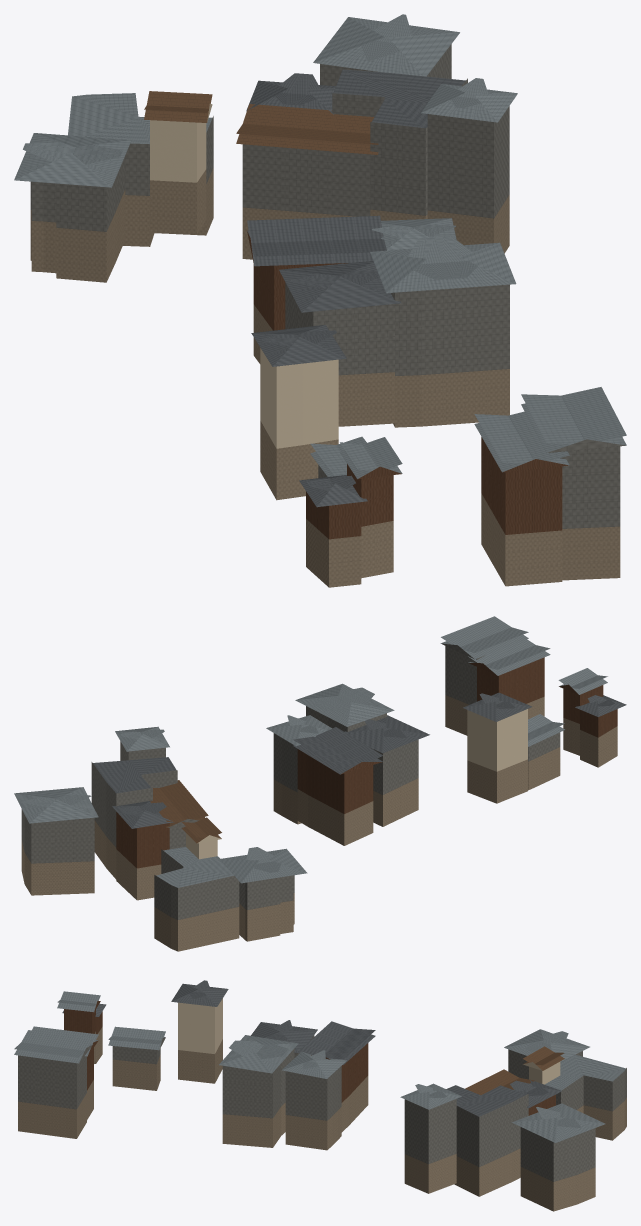
Rendered from bld_c28_-54_551.gltf.
3 views of the same model, one above another, from view 1: azimuth 30°, elevation 25°; view 2: azimuth 150°, elevation 25°; view 3: azimuth 270°, elevation 25° (orthographic). The views are drawn at different scales.
Parts seen in each view (by area): view 1: bld_c28_-54_551; view 2: bld_c28_-54_551; view 3: bld_c28_-54_551.
Part boxes in pixels (box(x1,y1,x2,y2)): bld_c28_-54_551: box(14, 14, 626, 587); bld_c28_-54_551: box(14, 616, 626, 951); bld_c28_-54_551: box(14, 980, 626, 1211).
Size of the model in its own units: 58.7 by 17.1 by 95.67.
10 materials, 10 textured.
